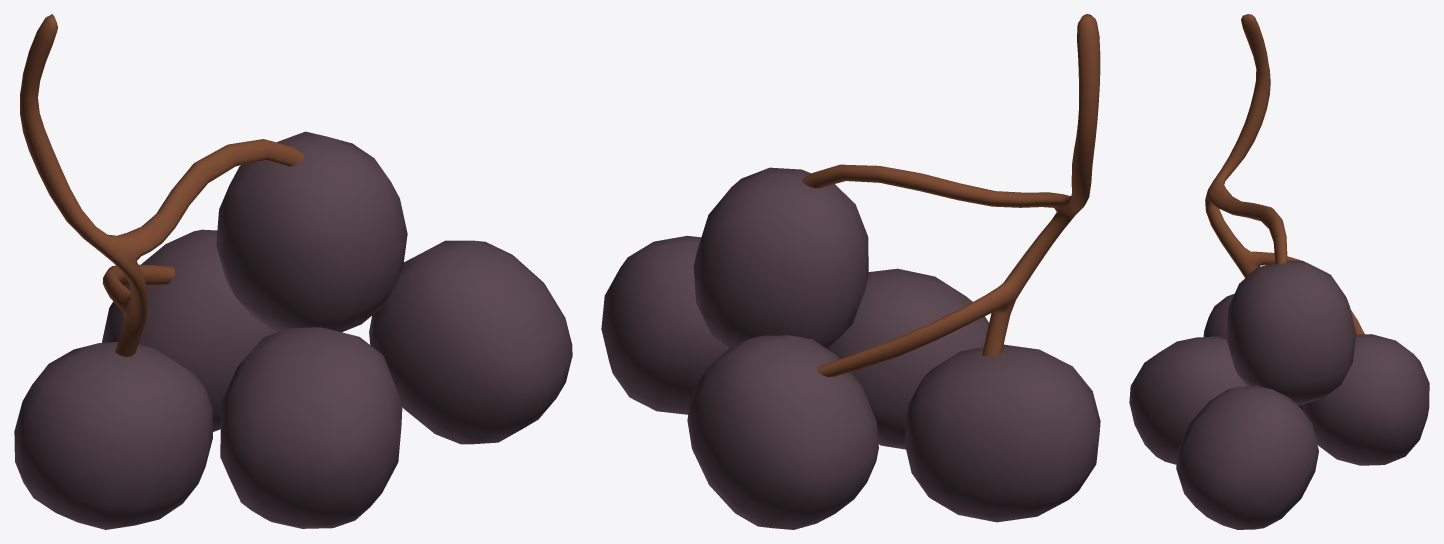
The model's file is Grape_03.dae.
The picture shows the model from 3 angles, left to right: view 1: azimuth 30°, elevation 25°; view 2: azimuth 150°, elevation 25°; view 3: azimuth 270°, elevation 25°; orthographic projection. The views are drawn at different scales.
Visible parts, largest first — view 1: Grape_03_LOD0; view 2: Grape_03_LOD0; view 3: Grape_03_LOD0.
Part boxes in pixels (bbox=[...]): Grape_03_LOD0: bbox=[14, 14, 572, 529]; Grape_03_LOD0: bbox=[601, 14, 1100, 529]; Grape_03_LOD0: bbox=[1129, 14, 1429, 529].
Size of what is drawn, in the model's own units: 4.84 by 3.42 by 4.7.
